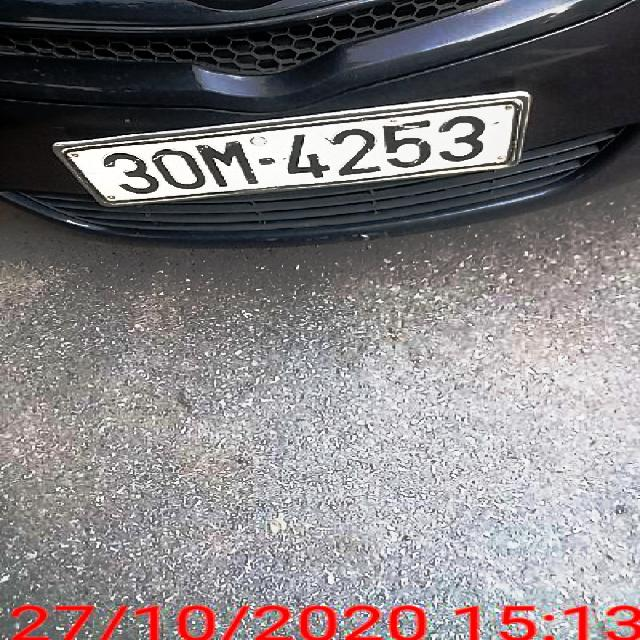license_plate: (60, 97, 524, 205)
